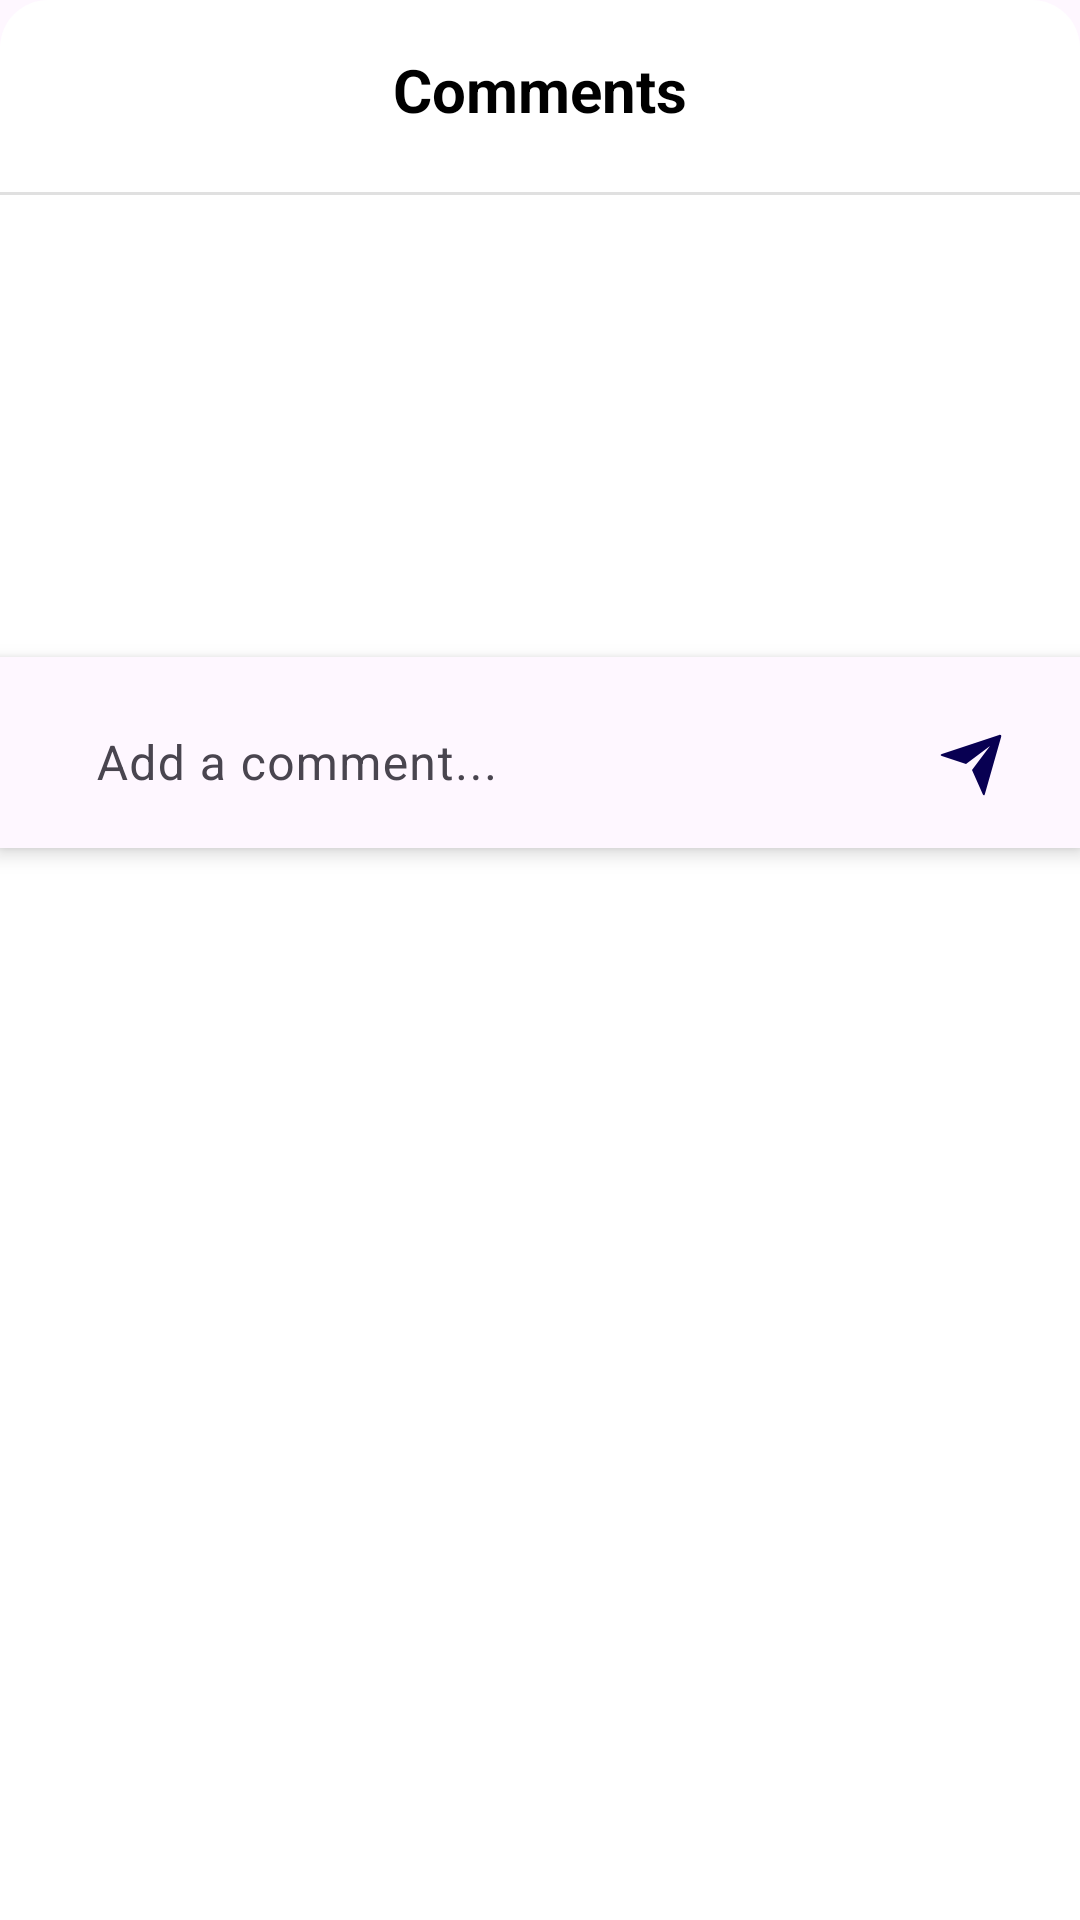

Icon bounding boxes for this 1080w x 1920h phone screenshot, format {"left": x1, "top": y1, "right": x2, "bottom": y2}:
send: {"left": 940, "top": 734, "right": 1002, "bottom": 796}
